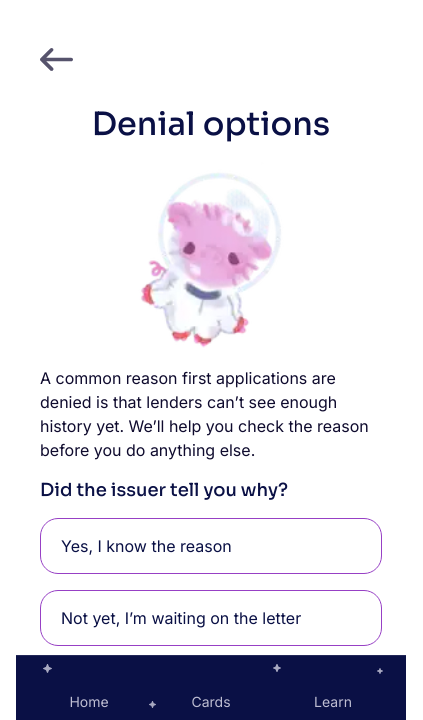
Test: DeniedOptionsView › reveals the reason question on the same page and moves focus to it
Click the button "Yes, I know the reason".
click(211, 546)  # box [40,518,382,574]
(page scrolled)
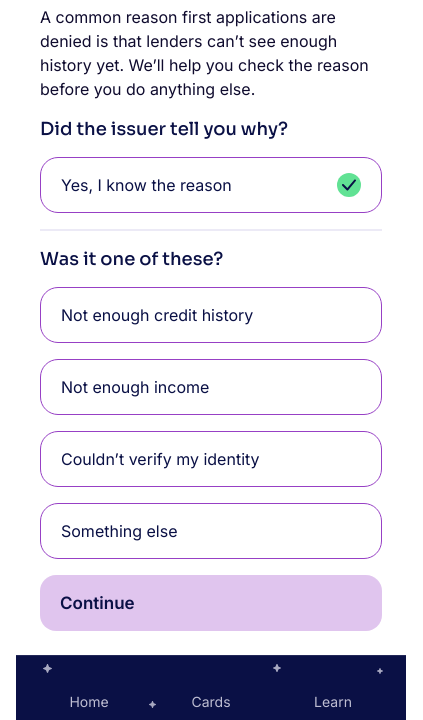
Expected: the link "I think it was a mistake" is not shown
Expected: the button "Continue" is disabled, [40,574,382,630]
